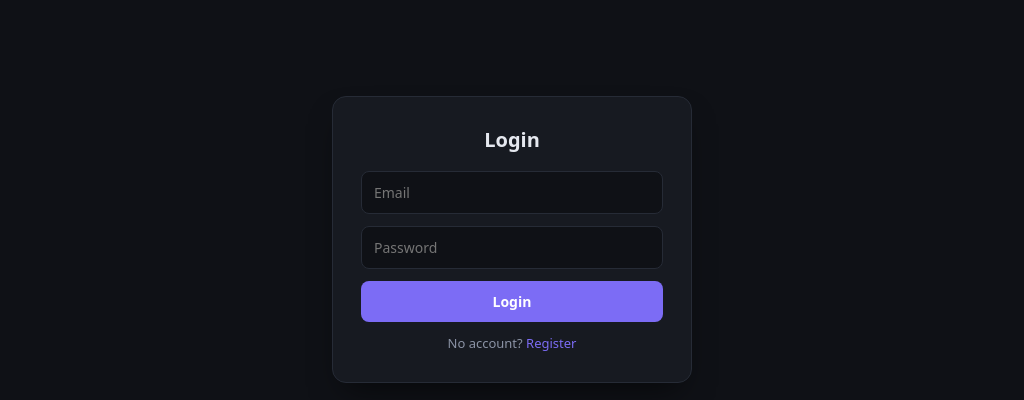
it: authentication gate › moves to the board after a successful login
Type "a@b.com" into the field with placeholder "Email".
click(512, 192); type("a@b.com")  # box [361,171,663,214]
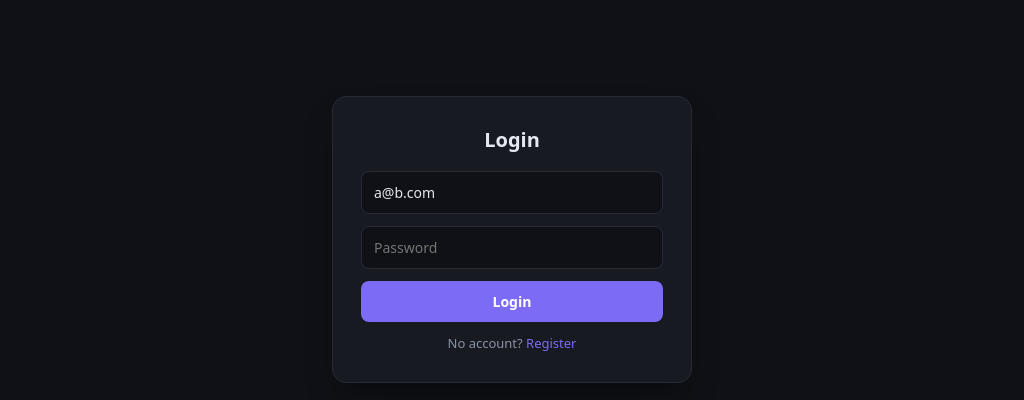
Type "secret123" into the password field with placeholder "Password".
click(512, 248); type("secret123")  # box [361,226,663,269]
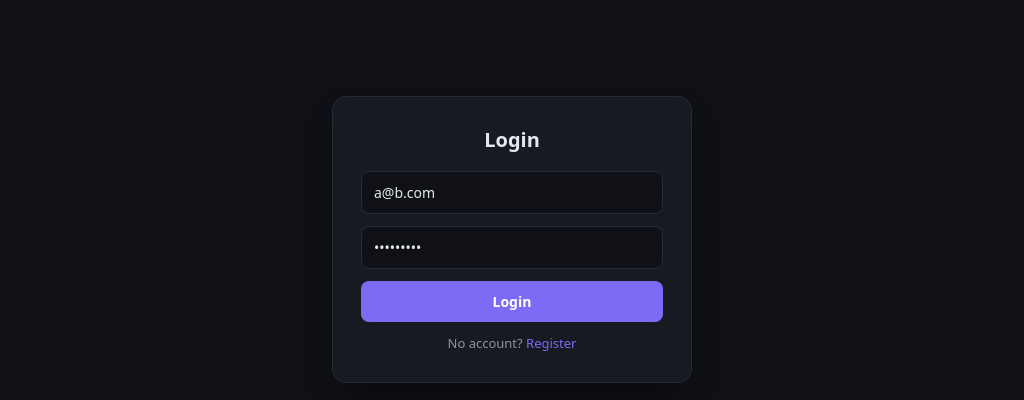
Click the button "Login".
click(512, 302)  # box [361,281,663,322]
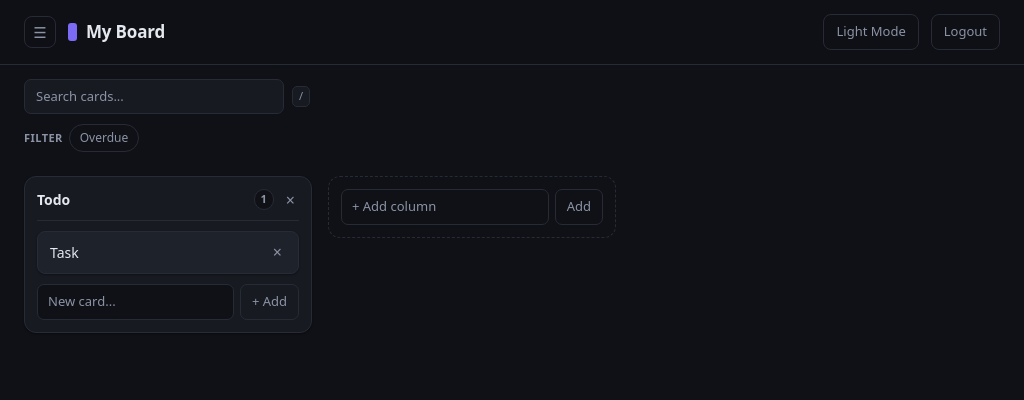
Now the heading "Todo" is shown, box [37,190,70,209]
